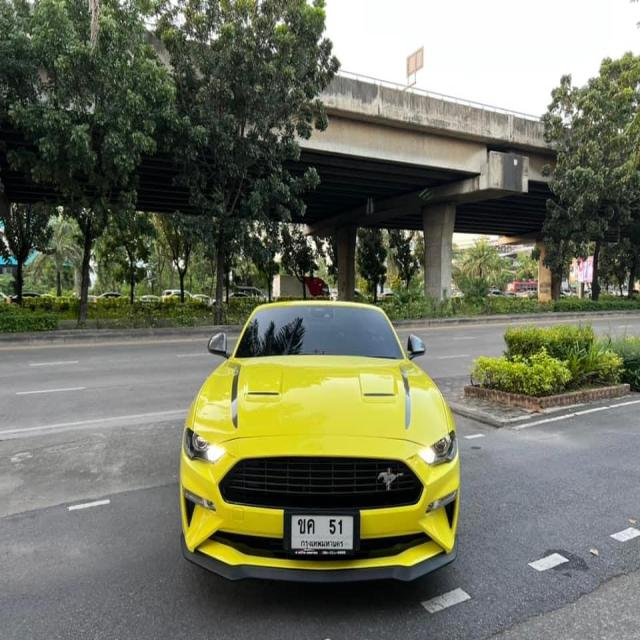license_plate: (286, 508, 358, 562)
